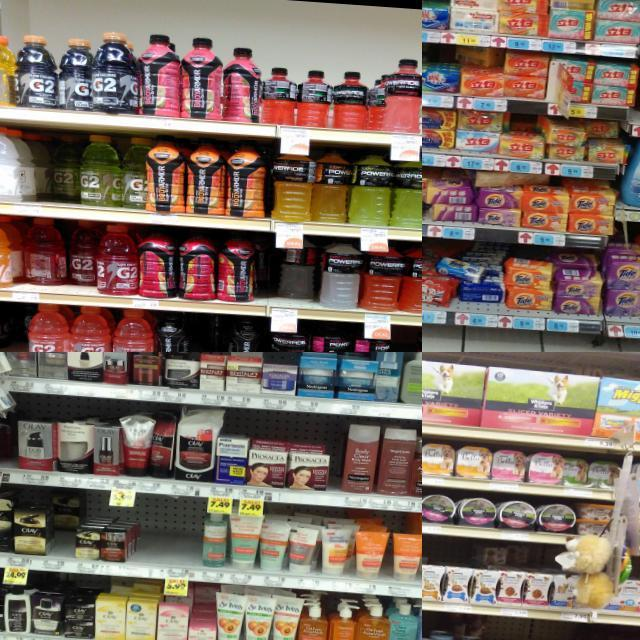Imprecise: (252, 55, 384, 129), (15, 218, 100, 294), (32, 128, 84, 210), (440, 254, 506, 314), (272, 233, 323, 307), (43, 490, 87, 562), (584, 112, 634, 172), (456, 41, 506, 95), (478, 537, 510, 608), (182, 583, 218, 640), (472, 167, 546, 192)
